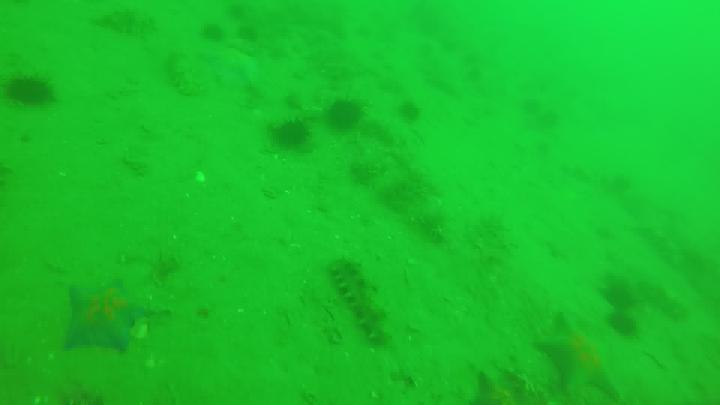echinus: (8, 75, 54, 110), (325, 98, 369, 134), (272, 120, 313, 144)
holothurian: (322, 258, 397, 344)
starfish: (526, 309, 626, 405), (65, 283, 149, 354), (210, 47, 258, 84), (472, 373, 522, 405)
